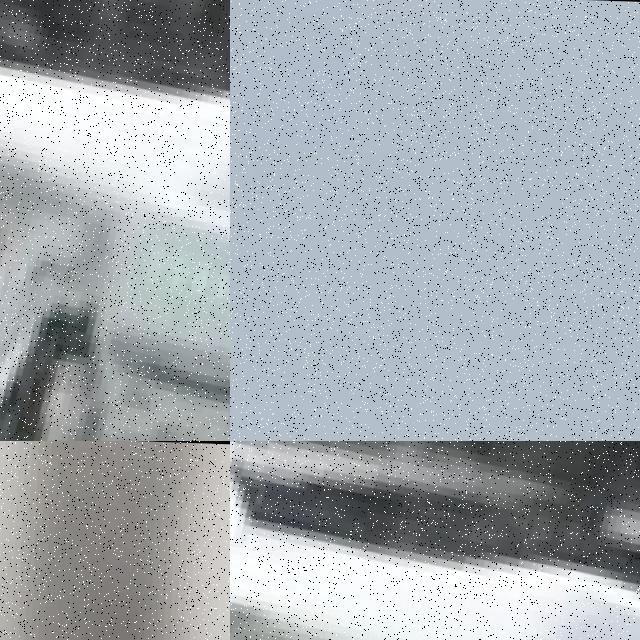drone: (0, 0, 230, 441), (230, 441, 640, 640)
